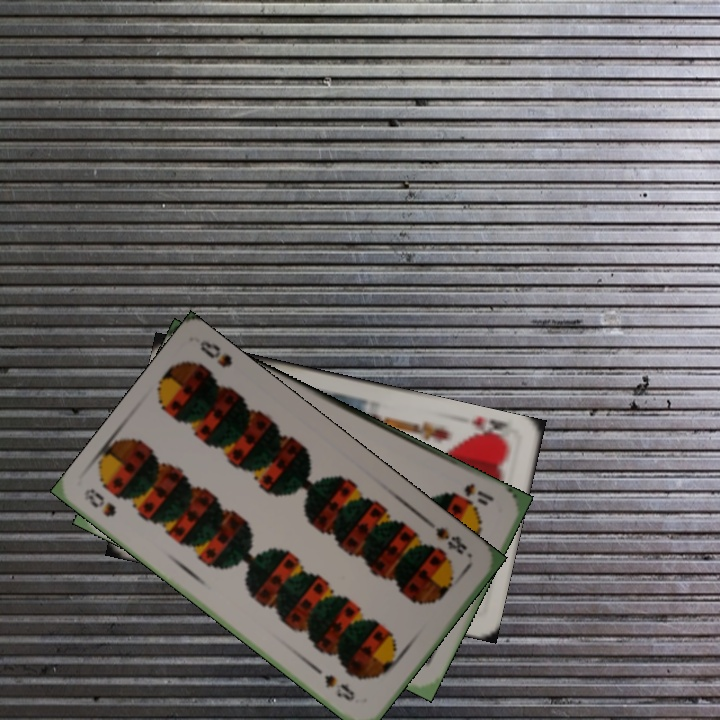HK: (463, 413, 512, 447)
S8: (424, 518, 470, 558), (80, 484, 119, 520)
SO: (448, 479, 497, 508)
